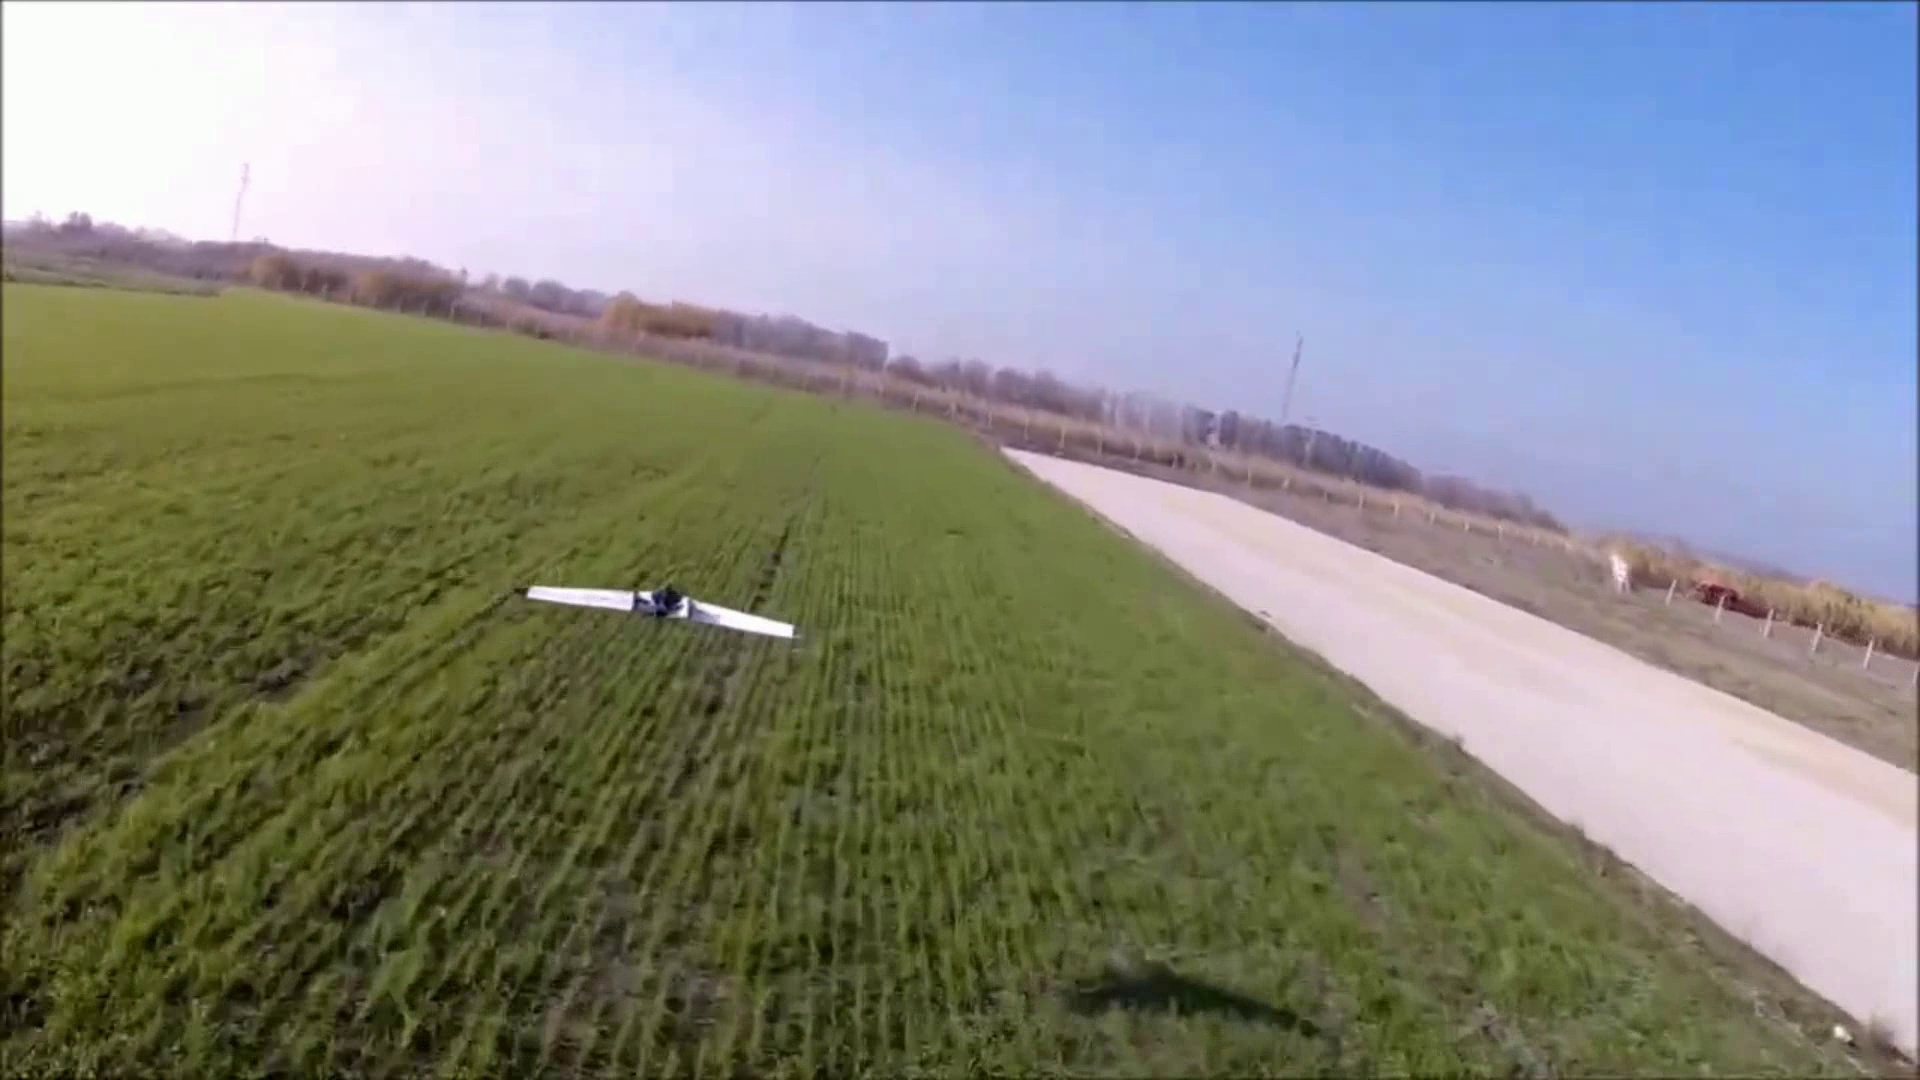airplane: (527, 581, 798, 644)
